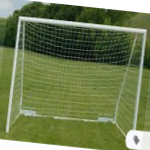goals: (6, 13, 149, 138)
